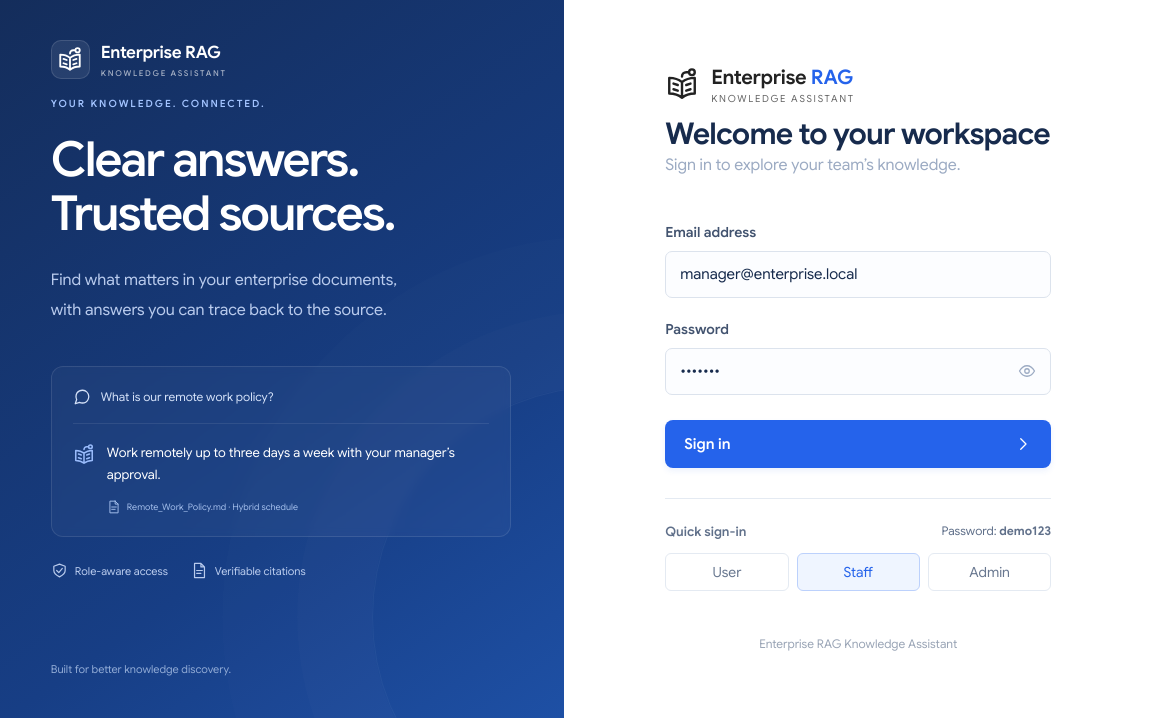
Test case: Sprint 4 frontend workflows › does not fall back to unsaved search on forbidden conversation creation
Click the button "Sign in" at [707, 444], box top-left (665, 420), bottom-right (1051, 468)
(page scrolled)
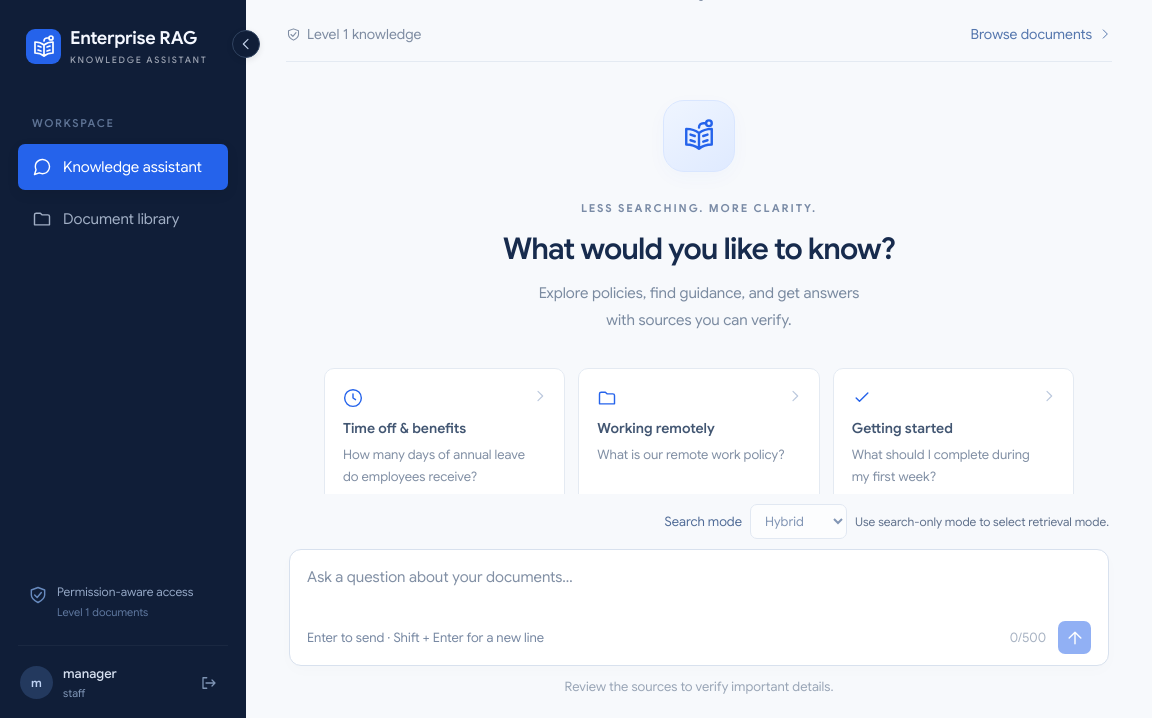
Type "annual leave" into the text box labelled "Ask a question about your documents" at [699, 590], box top-left (307, 565), bottom-right (1091, 616)
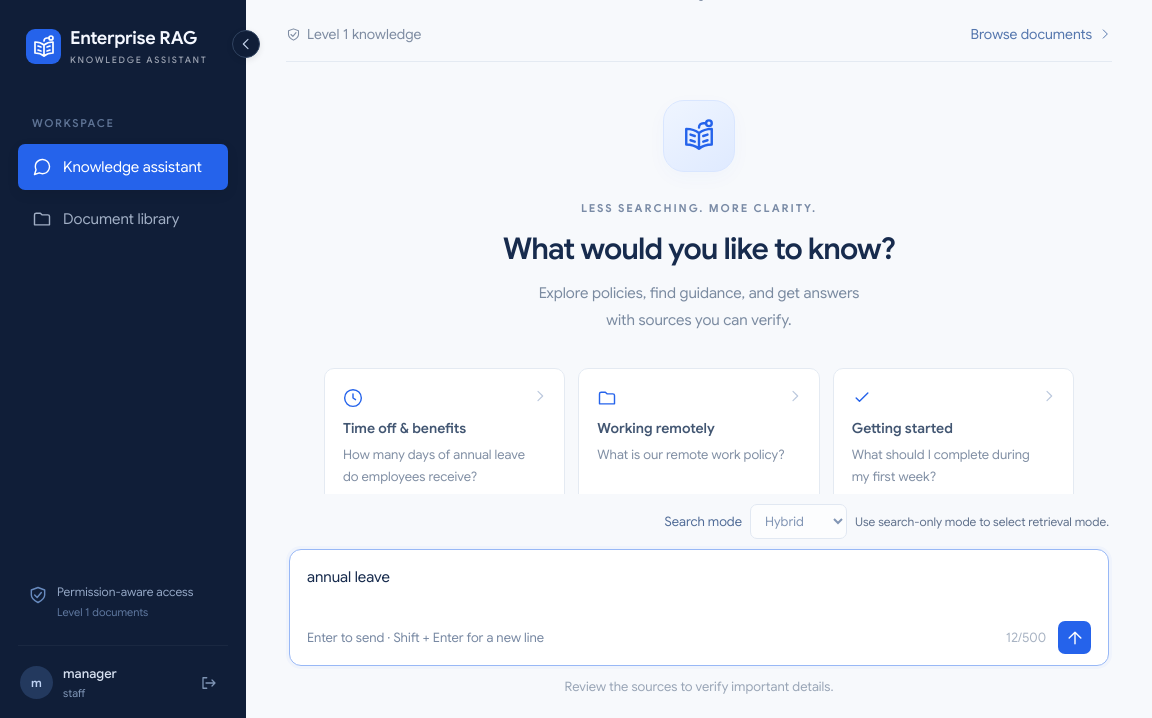
Click the button named "Send question" at [1074, 638], box top-left (1058, 621), bottom-right (1091, 654)
(page scrolled)
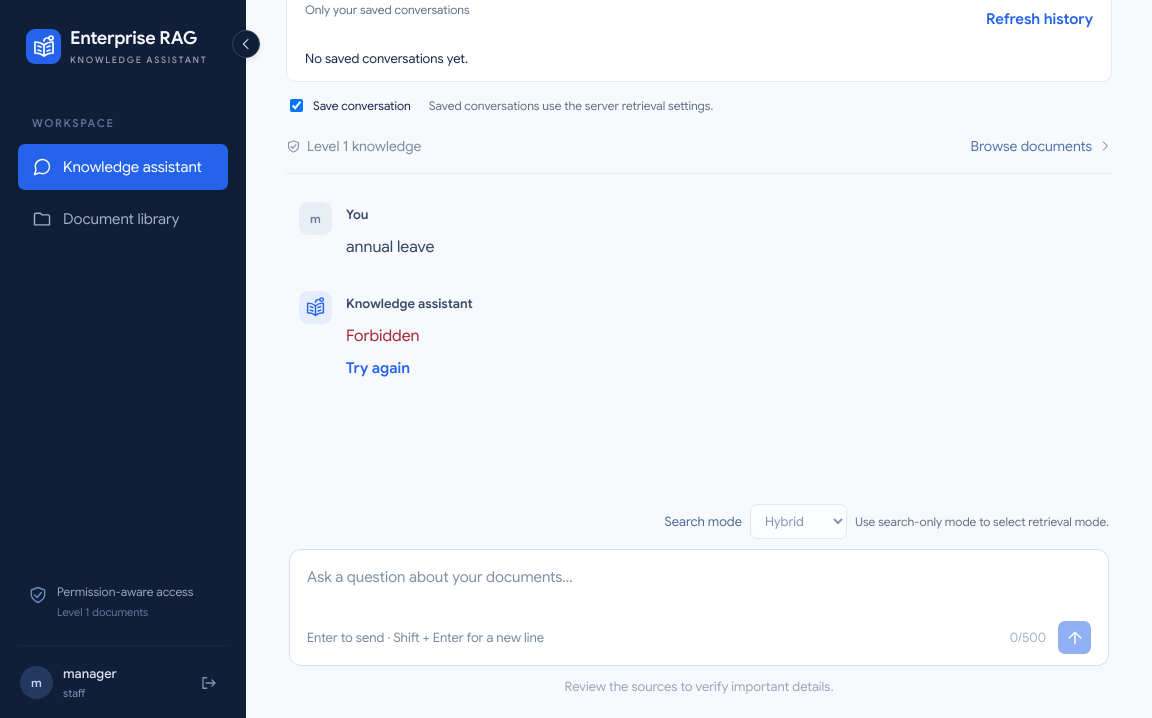
Check: the checkbox labelled "Save conversation" is checked, box top-left (290, 99), bottom-right (303, 112)
Check: the text "Forbidden" is shown, box top-left (346, 326), bottom-right (420, 346)
